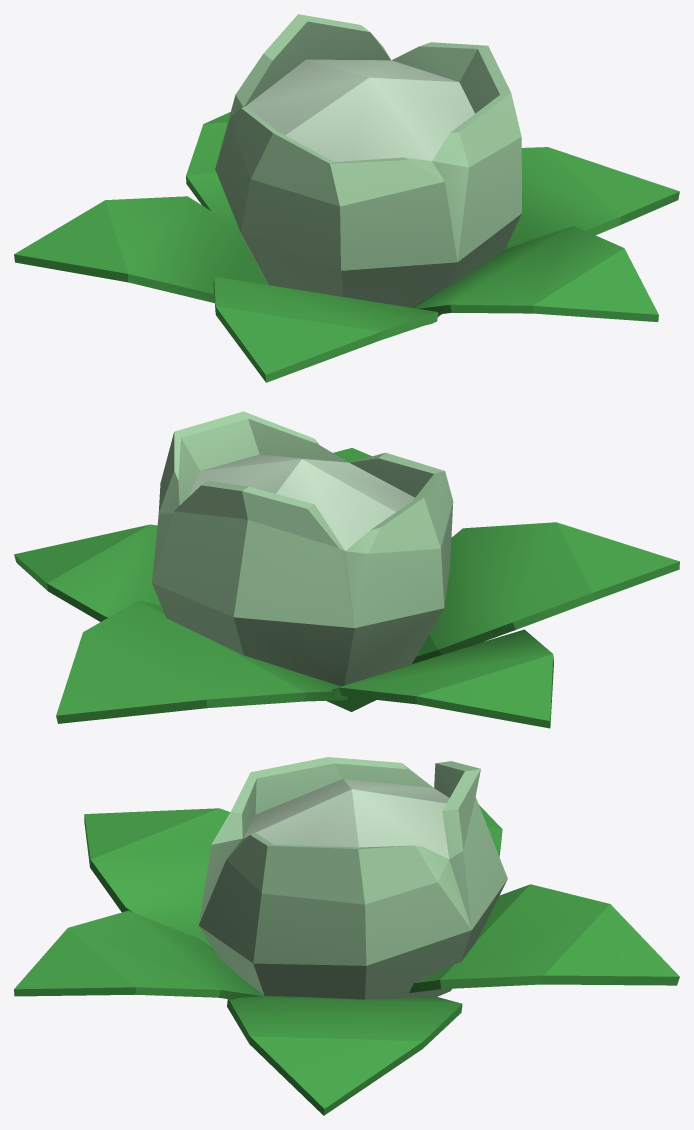
Rendered from plant_005.glb.
The picture shows the model from 3 angles, top to bottom: view 1: azimuth 30°, elevation 25°; view 2: azimuth 150°, elevation 25°; view 3: azimuth 270°, elevation 25°; orthographic projection. The views are drawn at different scales.
Parts seen in each view (by area): view 1: plant_005; view 2: plant_005; view 3: plant_005.
Part boxes in pixels (box(x1,y1,x2,y2)): plant_005: box(14, 14, 679, 382); plant_005: box(14, 411, 679, 728); plant_005: box(14, 757, 679, 1115).
Bounding box in the file's own units: 0.9923 × 0.4258 × 0.9632.
Materials: 1 (1 with a texture image).
